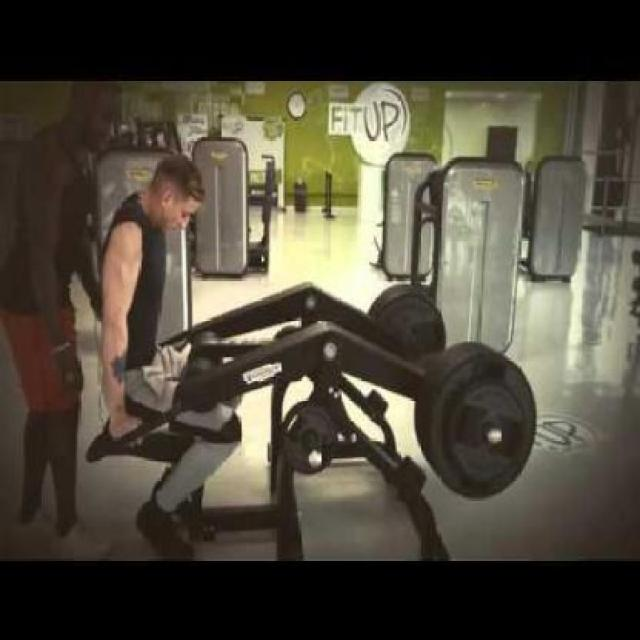seated dip machine: (88, 282, 538, 560)
